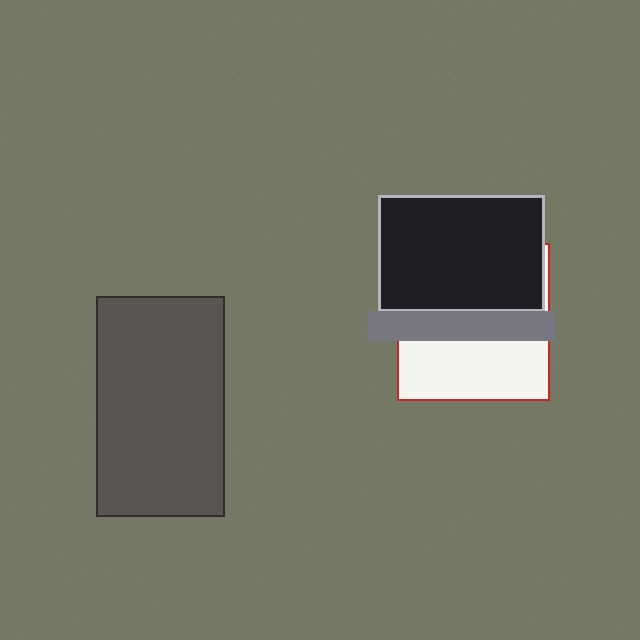book: (397, 243, 549, 400)
concrete_damage: (96, 296, 224, 516)
laptop: (378, 195, 544, 340)
